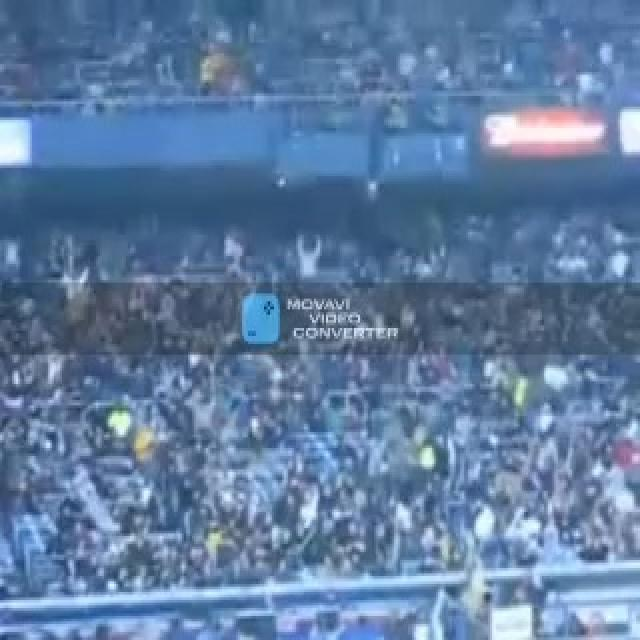non-voilence: (0, 211, 638, 637), (238, 288, 280, 344)
